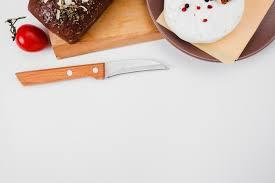Knife: (14, 58, 169, 85)
